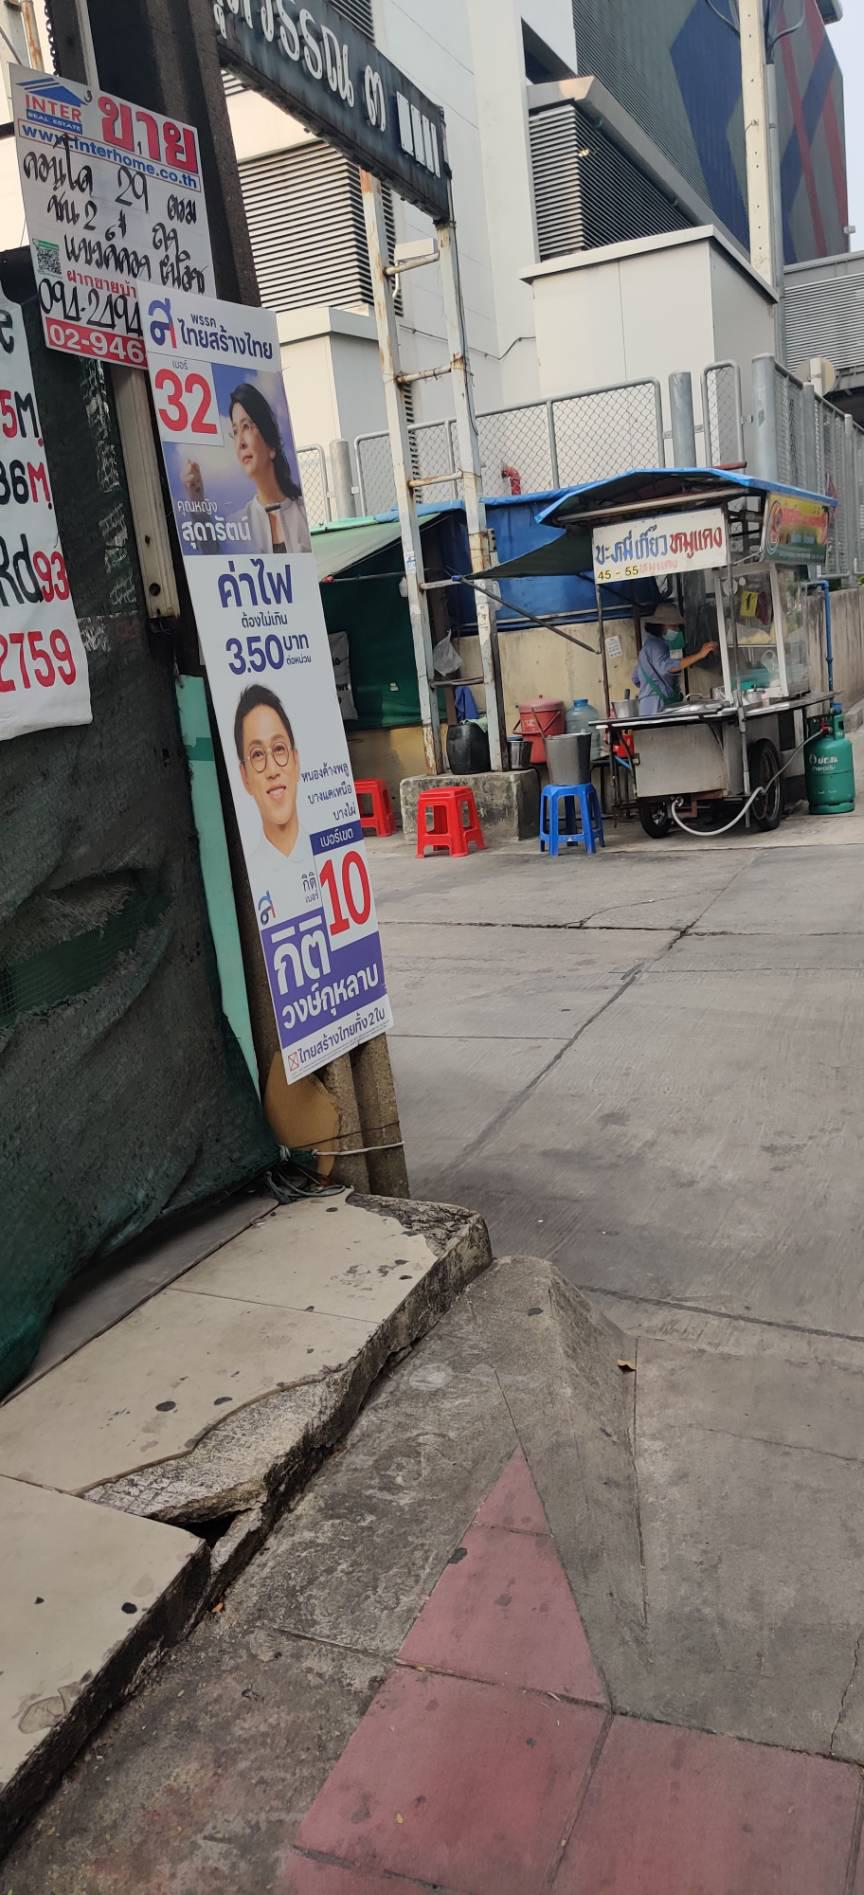Banner: (128, 282, 398, 1082)
